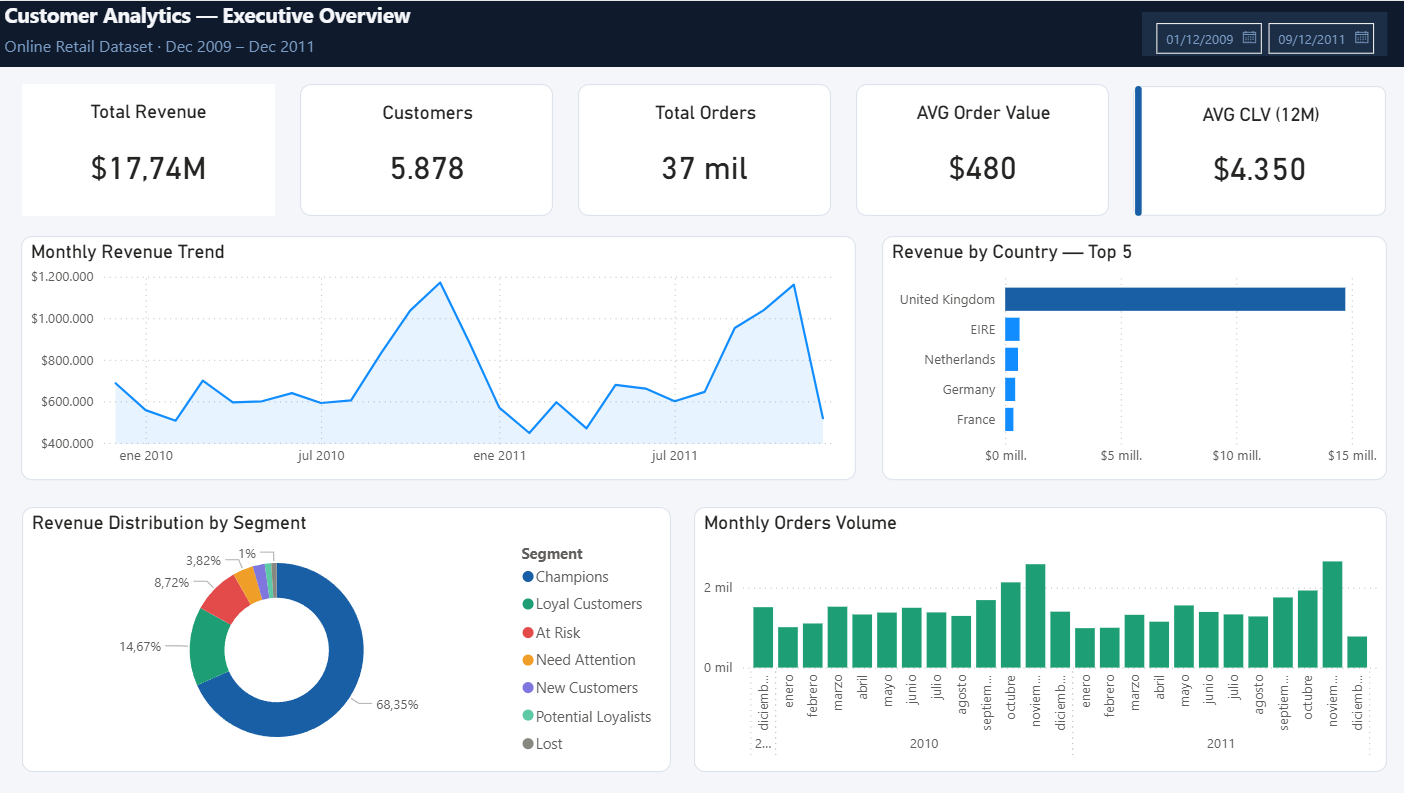

What the dashboard file says about the page in this screenshot:
{"tool":"powerbi","page":{"name":"Executive Overview","canvas":[1280,720],"ordinal":0},"visuals":[{"type":"card","title":"Total Revenue","fields":{"Values":["transactions.Revenue Display"]},"box":[20.9,75.5,230,120],"z":0},{"type":"card","title":"Customers","fields":{"Values":["transactions.Total Clientes"]},"box":[273.6,75,230,120],"z":1000},{"type":"card","title":"Total Orders","fields":{"Values":["transactions.Total Ordenes"]},"box":[526.4,75,230,120],"z":3000},{"type":"card","title":"AVG Order Value","fields":{"Values":["transactions.AOV"]},"box":[779.1,75,230,120],"z":4000},{"type":"card","title":"AVG CLV (12M)","fields":{"Values":["transactions.Avg CLV"]},"box":[1031.5,77.1,230,117.9],"z":5000,"group":"g1"},{"type":"textbox","title":"Customer Analytics — Executive Overview","box":[0,0,1280,60],"z":6000},{"type":"lineChart","title":"Monthly Revenue Trend","fields":{"Y":["transactions.Revenue Total"],"Category":["transactions.invoice_date.Variación.Jerarquía de fechas.Año","transactions.invoice_date.Variación.Jerarquía de fechas.Mes"]},"box":[20,214,759,222],"z":7000},{"type":"barChart","title":"Revenue by Country — Top 5","fields":{"Category":["transactions.country"],"Y":["transactions.Revenue Total"]},"box":[803,214,459,222],"z":8000},{"type":"donutChart","title":"Revenue Distribution by Segment","fields":{"Y":["transactions.Revenue Total"],"Category":["rfm_segments.segment"]},"box":[21,460,590,241],"z":9000},{"type":"clusteredColumnChart","title":"Monthly Orders Volume","fields":{"Y":["transactions.Total Ordenes"],"Category":["transactions.invoice_date.Variación.Jerarquía de fechas.Año","transactions.invoice_date.Variación.Jerarquía de fechas.Mes"]},"box":[632,460,630,241],"z":10000},{"type":"slicer","fields":{"Values":["transactions.invoice_date"]},"box":[1039,10,223,40],"z":11000},{"type":"shape","box":[1007.6,77.1,57.1,118.2],"z":11500,"group":"g1"},{"type":"group","id":"g1","title":"Grupo 1","box":[1007.6,77.1,254.1,118.2],"z":11501}]}

Visuals, with their boxes in screenshot pixels (x1, y1, x2, y2), scaled from the page's 1280x720 canvas onto the 1404x793 screenshot:
"Total Revenue" card: [23, 83, 275, 215]
"Customers" card: [300, 83, 552, 215]
"Total Orders" card: [577, 83, 830, 215]
"AVG Order Value" card: [855, 83, 1107, 215]
"AVG CLV (12M)" card: [1131, 85, 1384, 215]
"Customer Analytics — Executive Overview" textbox: [0, 0, 1403, 66]
"Monthly Revenue Trend" lineChart: [22, 236, 854, 480]
"Revenue by Country — Top 5" barChart: [881, 236, 1384, 480]
"Revenue Distribution by Segment" donutChart: [23, 507, 670, 772]
"Monthly Orders Volume" clusteredColumnChart: [693, 507, 1384, 772]
slicer - transactions.invoice_date: [1140, 11, 1384, 55]
shape: [1105, 85, 1168, 215]
"Grupo 1" group: [1105, 85, 1384, 215]
